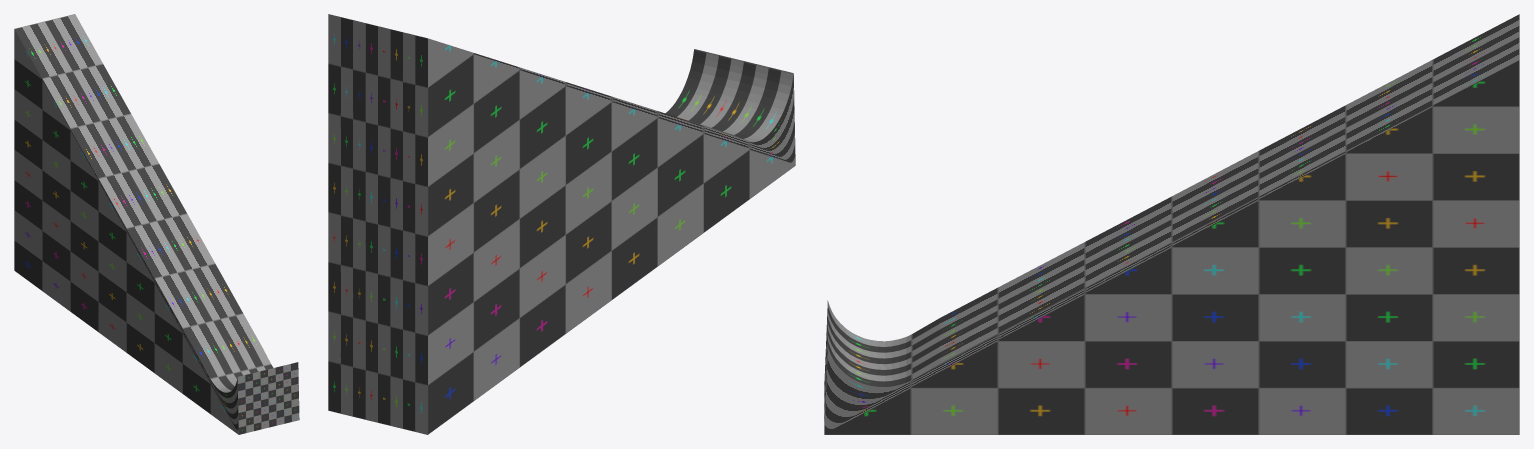
The model's file is starter-ramp.glb.
The picture shows the model from 3 angles, left to right: view 1: azimuth 30°, elevation 25°; view 2: azimuth 150°, elevation 25°; view 3: azimuth 270°, elevation 25°; orthographic projection. The views are drawn at different scales.
Visible parts, largest first — view 1: Cube; view 2: Cube; view 3: Cube.
Part boxes in pixels (box(x1,y1,x2,y2)): Cube: box(14, 14, 299, 434); Cube: box(328, 14, 795, 434); Cube: box(824, 14, 1519, 434).
Bounding box in the file's own units: 18.92 × 72 × 121.
Materials: 1 (1 with a texture image).
